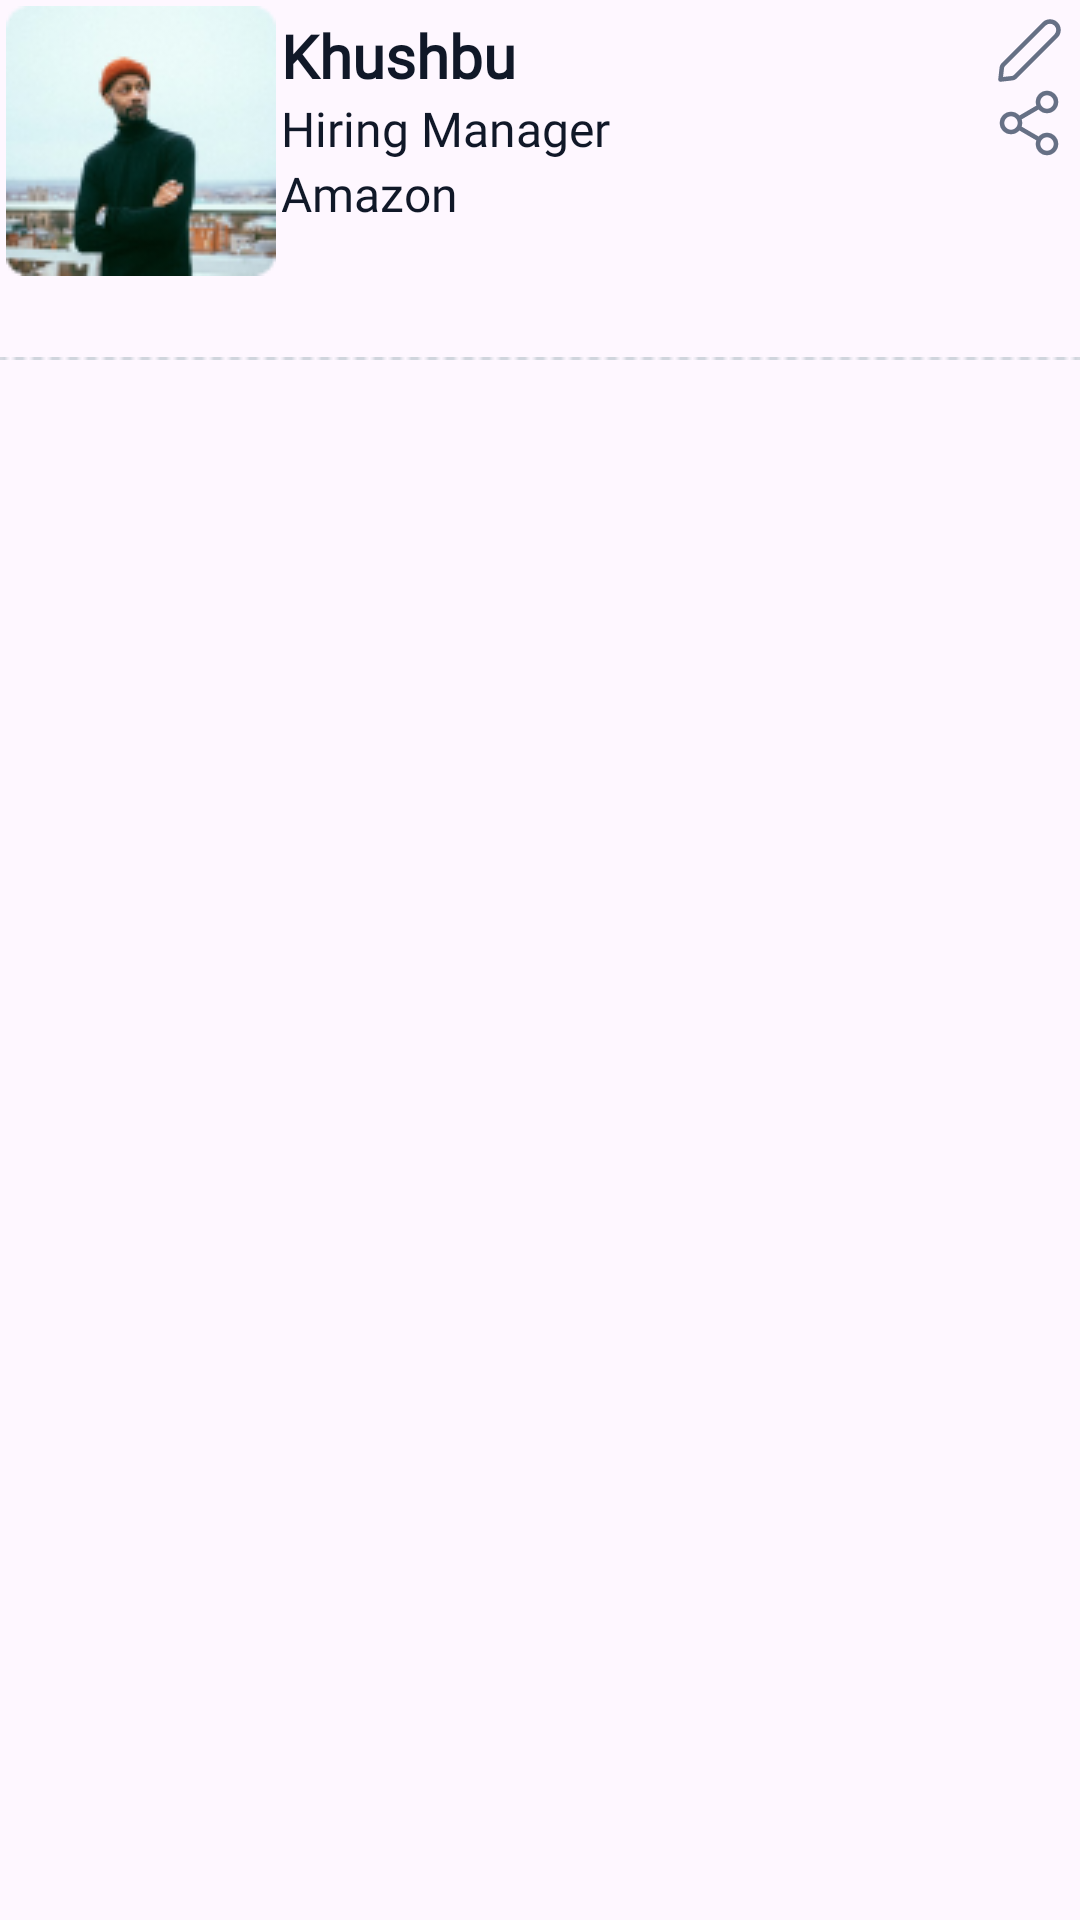

Icons on this 1080 x 1920 Android screen, each with its box as (x1, y1, x2, y2):
edit: (998, 19, 1061, 82)
photo: (6, 6, 276, 276)
share: (999, 90, 1059, 156)
